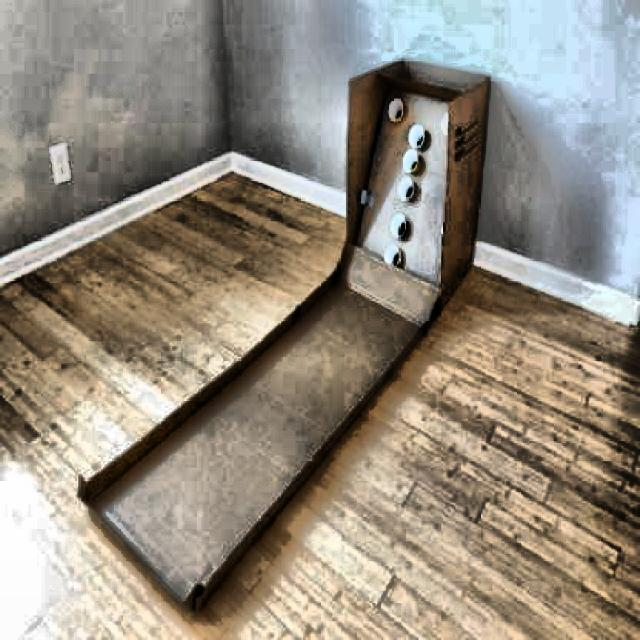Cardbox: (42, 27, 503, 610)
